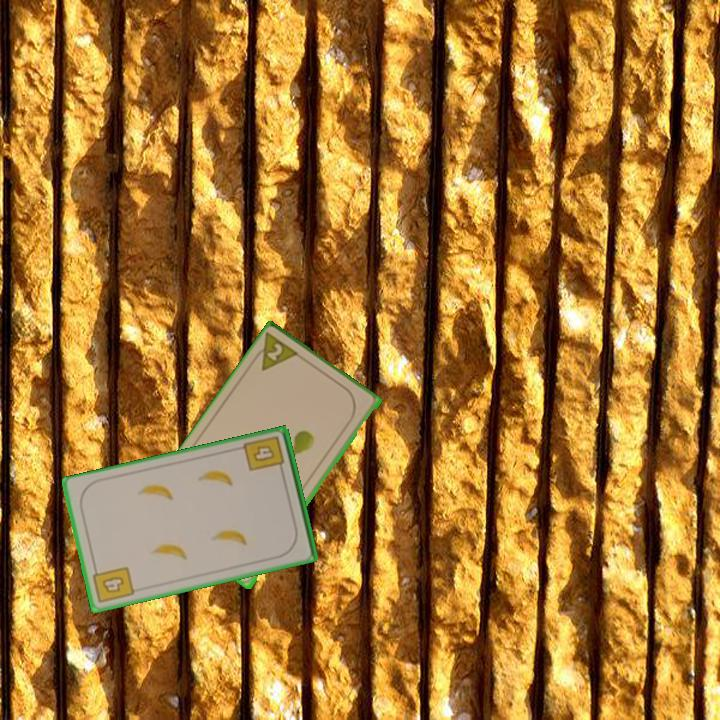2p: (247, 330, 303, 375)
4b: (240, 432, 287, 477), (90, 563, 137, 606)
